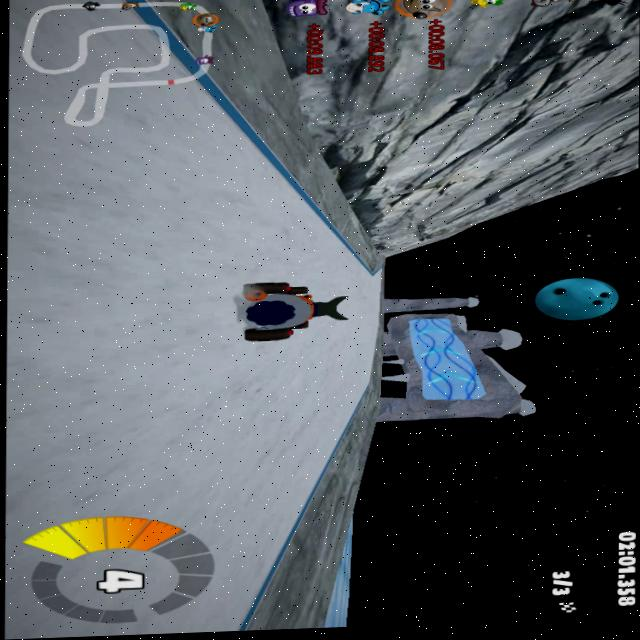player_kart: (234, 282, 350, 343)
track: (1, 125, 234, 640), (14, 0, 134, 134), (240, 340, 352, 434), (235, 431, 324, 500), (231, 498, 268, 623), (236, 261, 360, 284), (234, 242, 343, 266), (354, 274, 371, 398), (234, 221, 318, 244), (234, 194, 292, 224), (232, 176, 276, 193), (235, 151, 271, 169), (371, 271, 387, 287)
